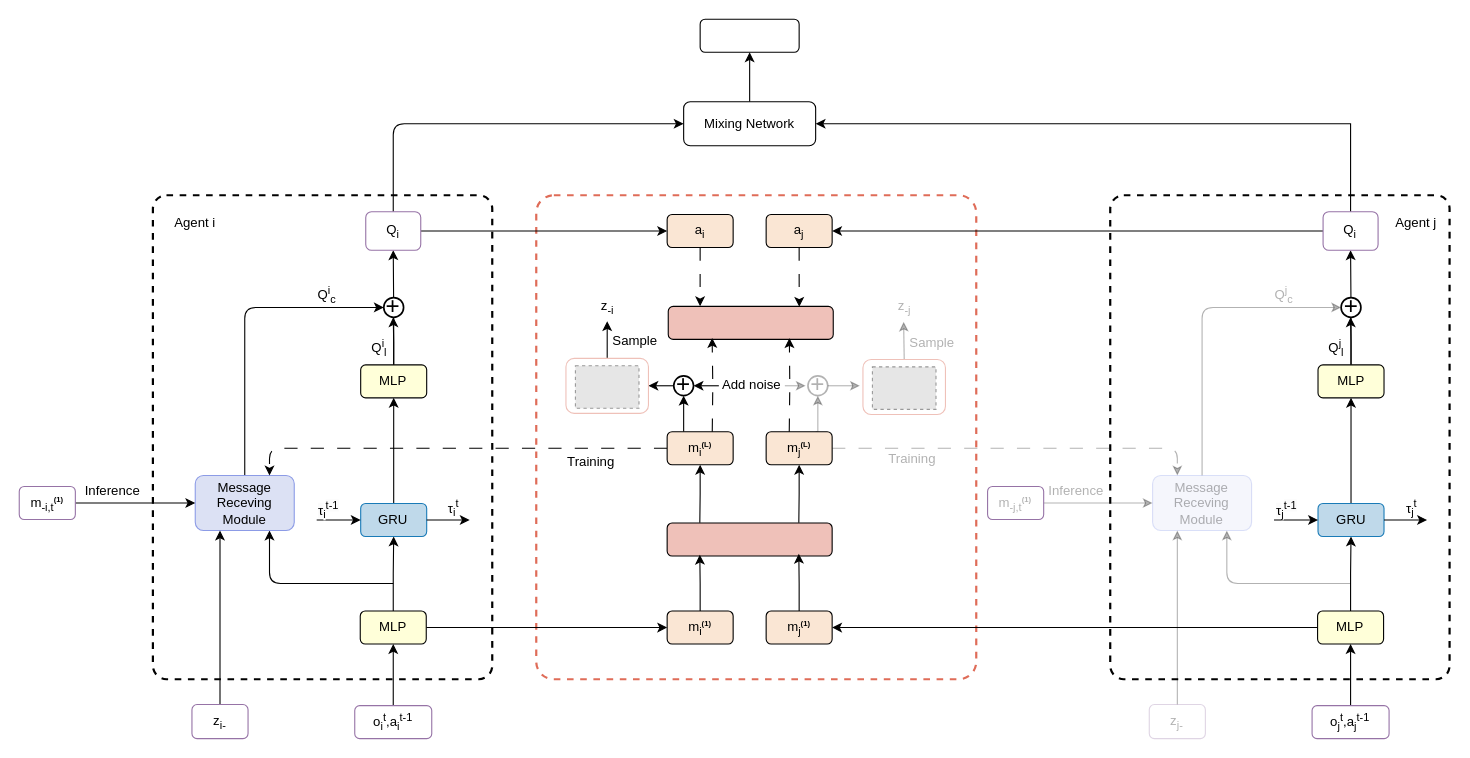
This 1470x758 diagram has some shape labels left out. Grey dashed boxes stand in for pictures. The box of each missing label's shape, as (x1, y1, x2, y2) in pixels:
Compression: (666, 522, 832, 556)
GIB: (667, 305, 833, 339)
Qtot(o,a): (699, 18, 799, 52)
